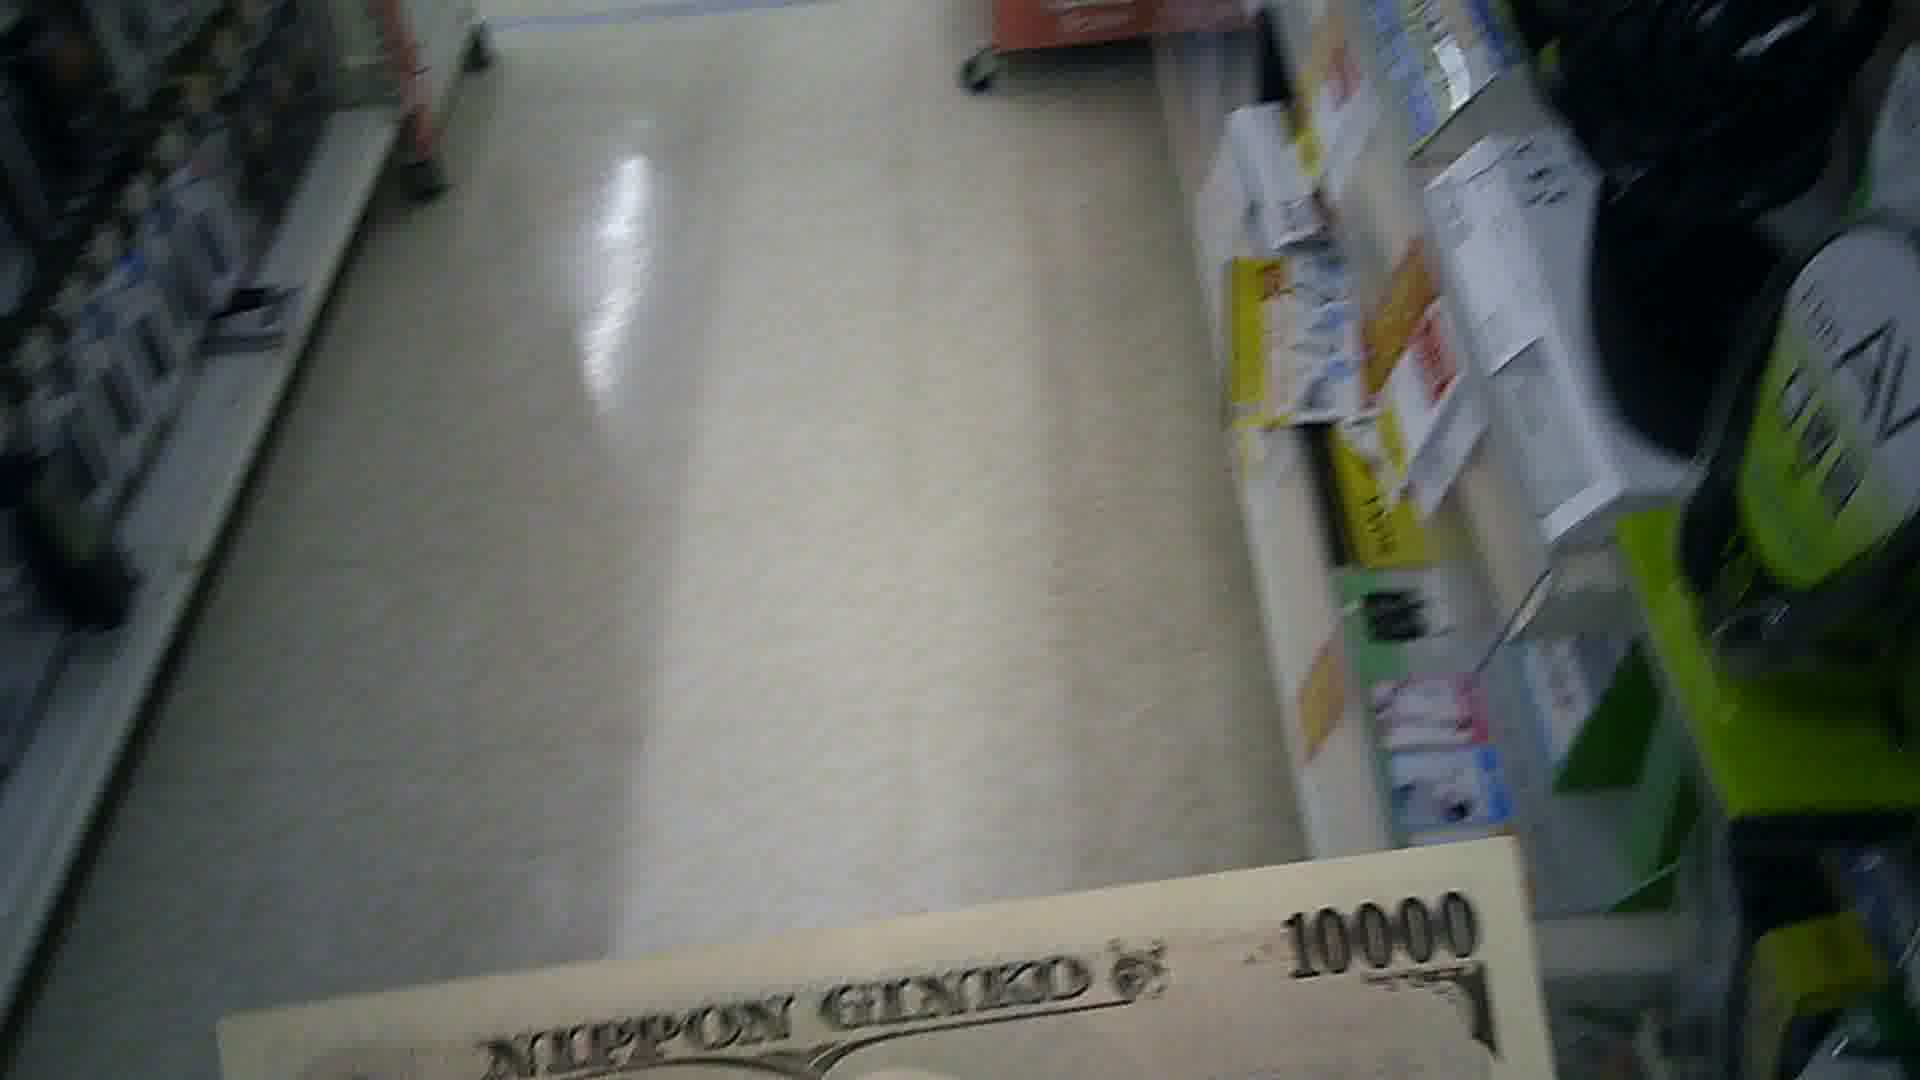10,000 Yen: (218, 827, 1560, 1051)
